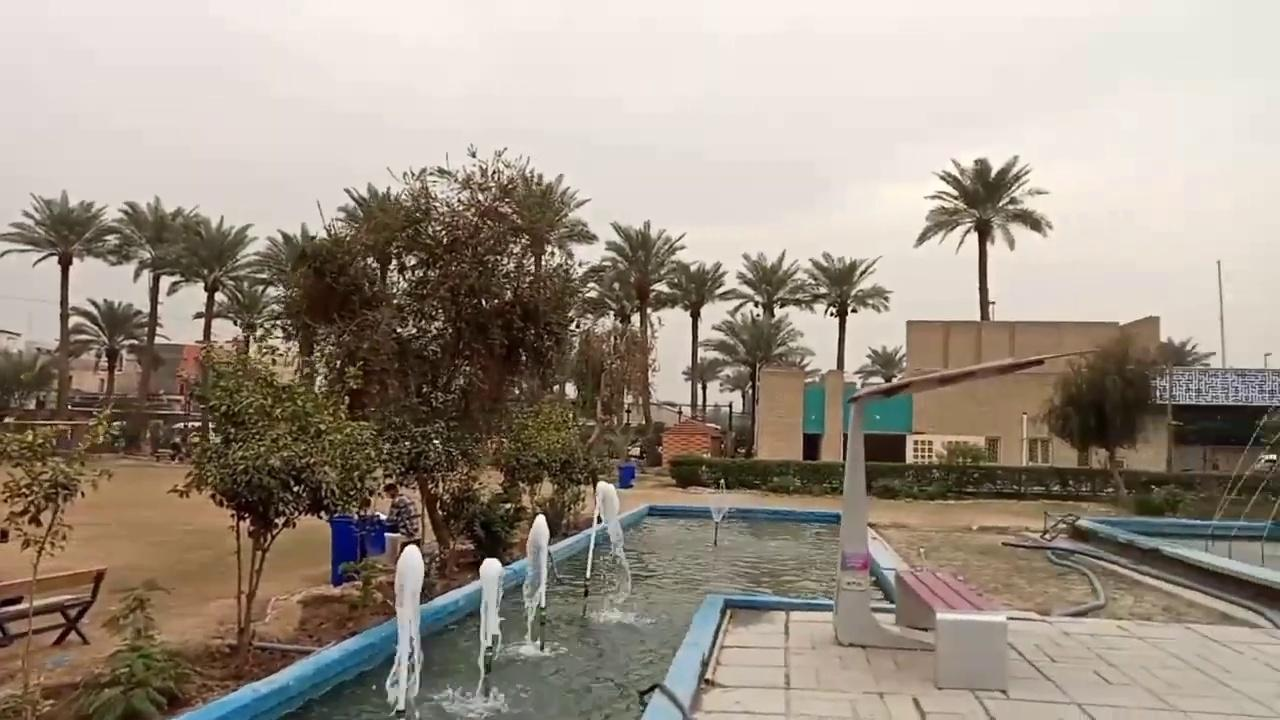car: (1250, 452, 1279, 475)
fountain: (167, 342, 1275, 717), (173, 485, 913, 719), (830, 343, 1102, 658), (381, 479, 641, 717), (383, 542, 425, 714)
person: (382, 482, 421, 562)
tree: (251, 142, 600, 580), (166, 343, 374, 667), (0, 400, 124, 717), (478, 165, 596, 403), (0, 188, 121, 417), (142, 212, 260, 440), (586, 218, 687, 459), (913, 153, 1053, 320), (107, 193, 197, 448), (1036, 333, 1161, 494), (65, 578, 202, 718), (376, 407, 484, 577), (698, 309, 804, 456), (495, 396, 600, 541), (792, 250, 893, 372), (659, 259, 728, 419), (1146, 334, 1215, 471), (64, 296, 149, 400), (718, 247, 806, 321), (193, 283, 276, 356), (0, 345, 56, 411), (680, 356, 724, 416), (852, 343, 906, 387), (1151, 334, 1215, 369), (719, 364, 753, 413)
